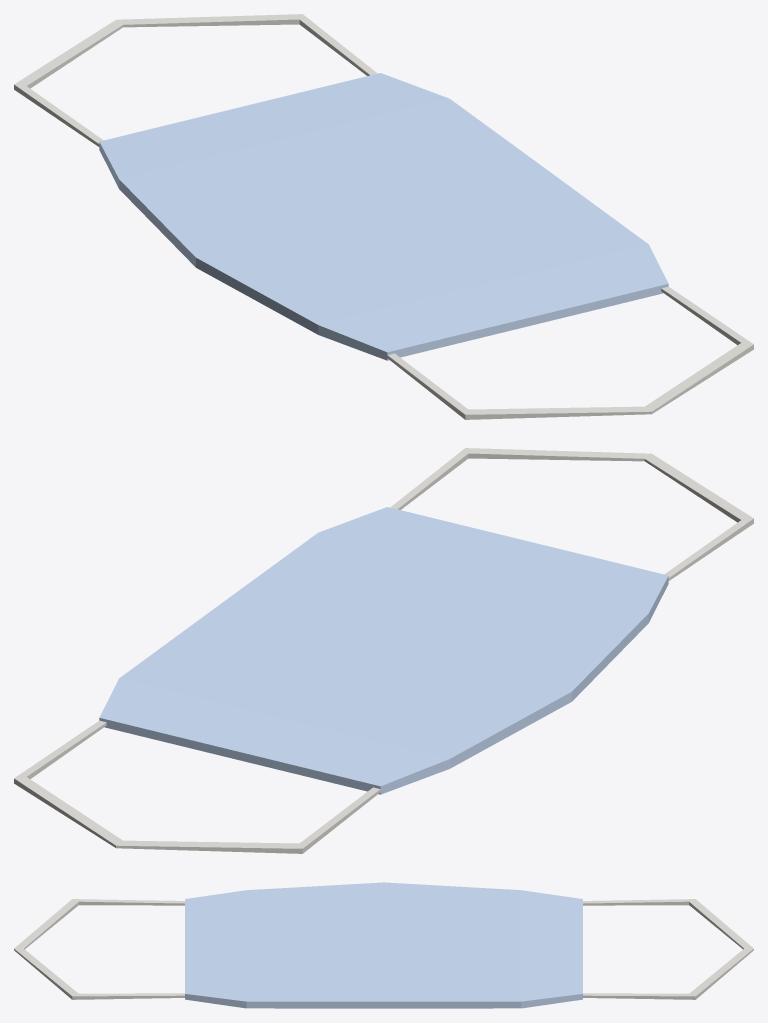
Rendered from facemask.fbx.
3 renders of one model, top to bottom at view 1: azimuth 30°, elevation 25°; view 2: azimuth 150°, elevation 25°; view 3: azimuth 270°, elevation 25°, orthographic. The views are drawn at different scales.
Parts seen in each view (by area): view 1: Cube; view 2: Cube; view 3: Cube.
Part boxes in pixels (box(x1,y1,x2,y2)): Cube: box(14, 14, 753, 419); Cube: box(14, 448, 753, 853); Cube: box(14, 882, 753, 1008).
Size of the model in its own units: 142 by 3.91 by 372.
